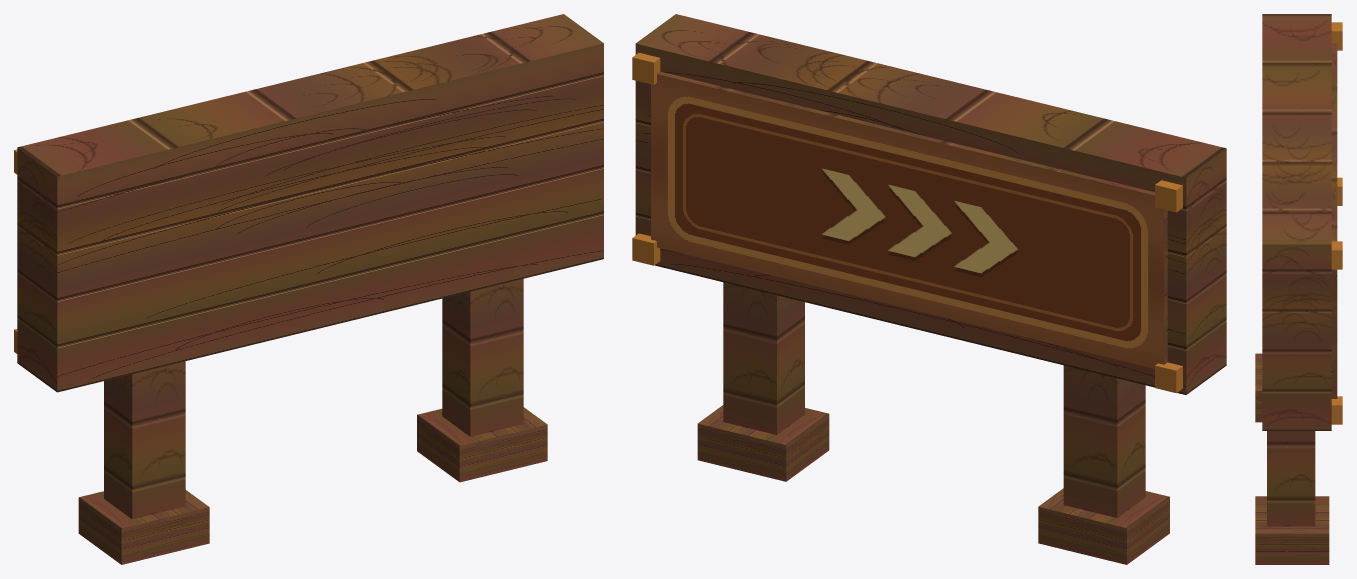
The model's file is guide_sign.obj.
The picture shows the model from 3 angles, left to right: view 1: azimuth 30°, elevation 25°; view 2: azimuth 150°, elevation 25°; view 3: azimuth 270°, elevation 25°; orthographic projection. The views are drawn at different scales.
Parts seen in each view (by area): view 1: GuideSign; view 2: GuideSign; view 3: GuideSign.
Part boxes in pixels (x1=…): GuideSign: x1=14, y1=14, x2=603, y2=564; GuideSign: x1=632, y1=14, x2=1226, y2=564; GuideSign: x1=1255, y1=14, x2=1342, y2=564.
Size of the model in its own units: 2.36 by 1.65 by 0.378.
3 materials, 2 textured.
